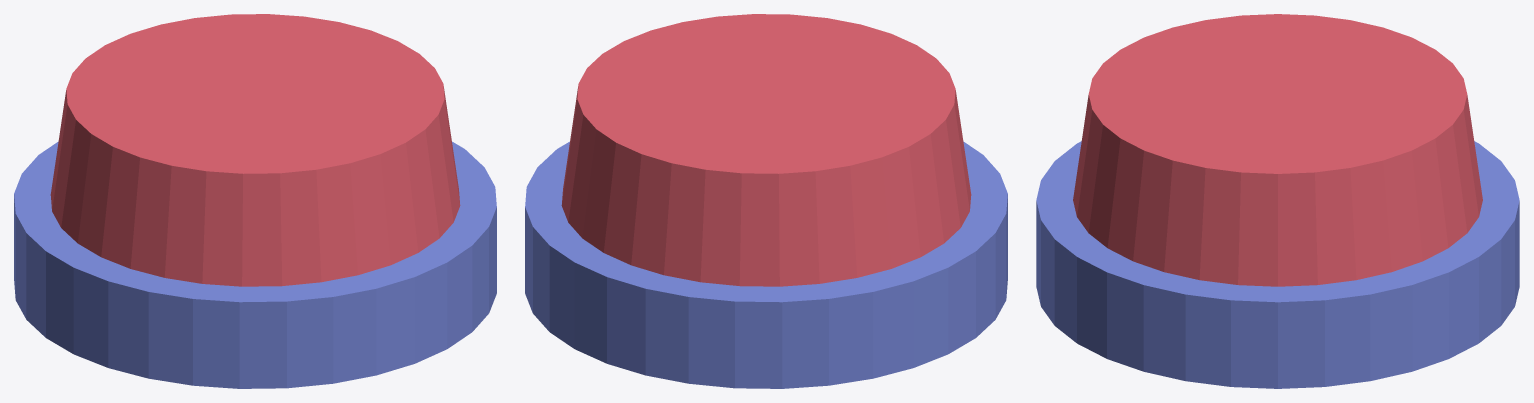
The model's file is Button_Press_1208.fbx.
3 renders of one model, left to right at view 1: azimuth 30°, elevation 25°; view 2: azimuth 150°, elevation 25°; view 3: azimuth 270°, elevation 25°, orthographic.
Visible parts, largest first — view 1: Button, Base; view 2: Button, Base; view 3: Button, Base.
Boxes of the visible parts, left/top/right/bottom form: Button: left=50, top=14, right=460, bottom=286; Base: left=14, top=141, right=496, bottom=388; Button: left=561, top=14, right=971, bottom=286; Base: left=525, top=141, right=1007, bottom=388; Button: left=1073, top=14, right=1482, bottom=286; Base: left=1036, top=141, right=1519, bottom=388.
Size of the model in its own units: 200 by 88.06 by 200.
